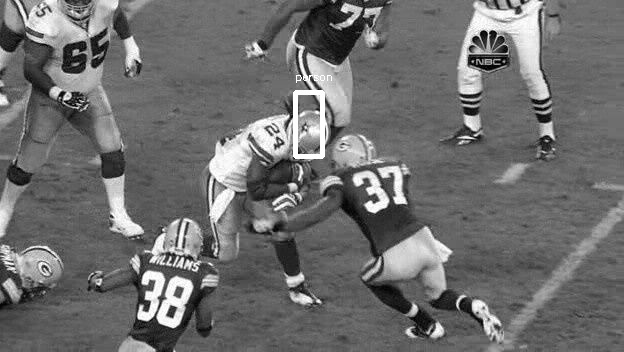person: (293, 116, 327, 160), (292, 116, 326, 160), (294, 116, 328, 160), (293, 115, 327, 159), (293, 117, 327, 161)
target_negative: (361, 63, 407, 294), (486, 204, 582, 304), (141, 78, 478, 93), (533, 324, 624, 343), (498, 306, 586, 314), (584, 118, 594, 185)
